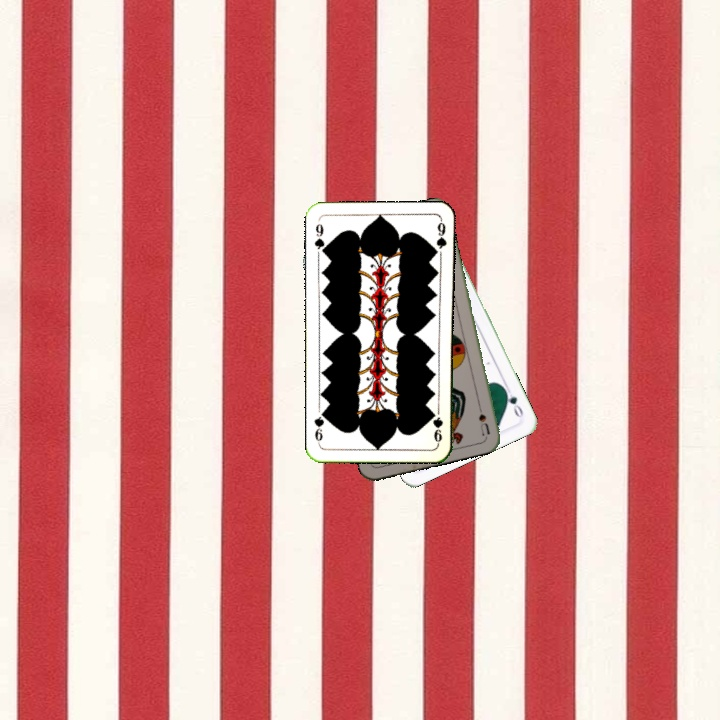G9: (311, 220, 328, 258), (430, 405, 445, 446)
GO: (499, 382, 526, 421)
SU: (473, 397, 493, 437)
